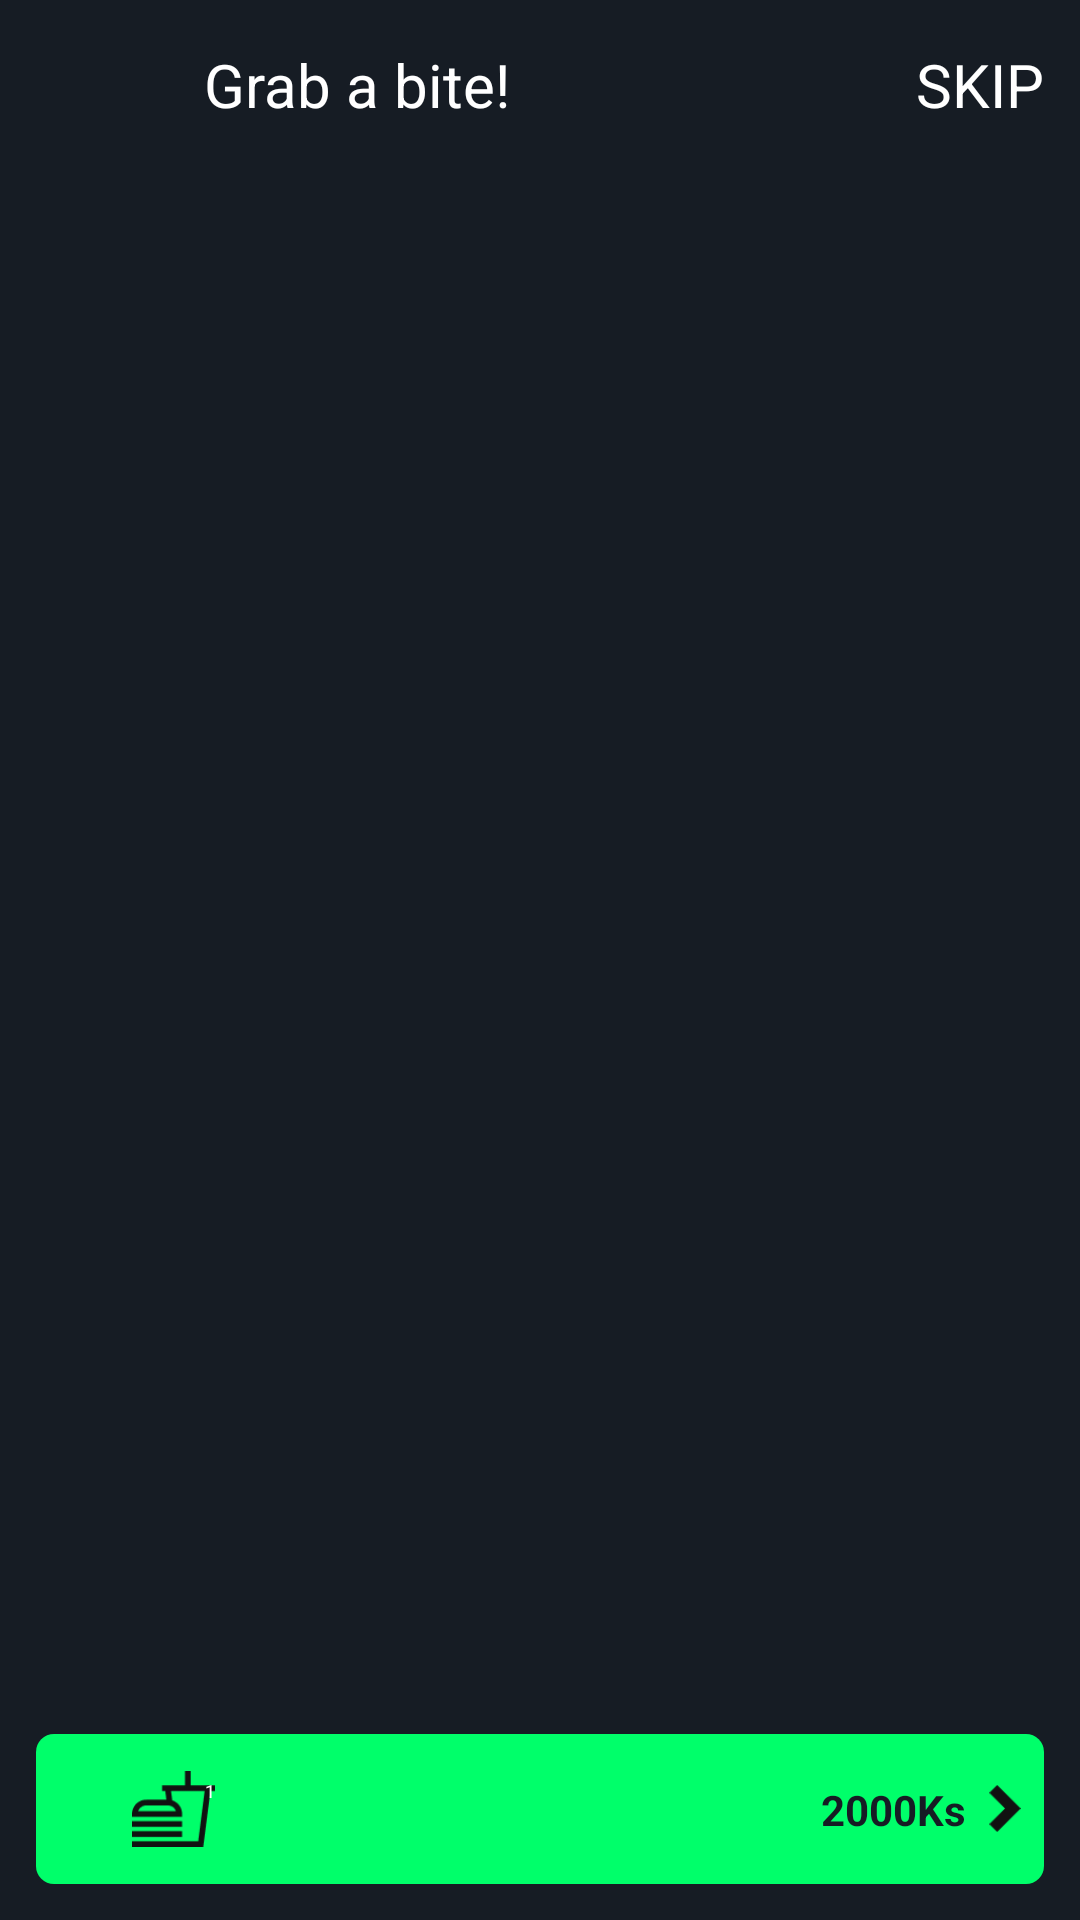

Named icons in this screenshot (1080×1920) and their bounding boxes, (x1, y1, x2, y2):
go arrow: (989, 1785, 1021, 1832)
